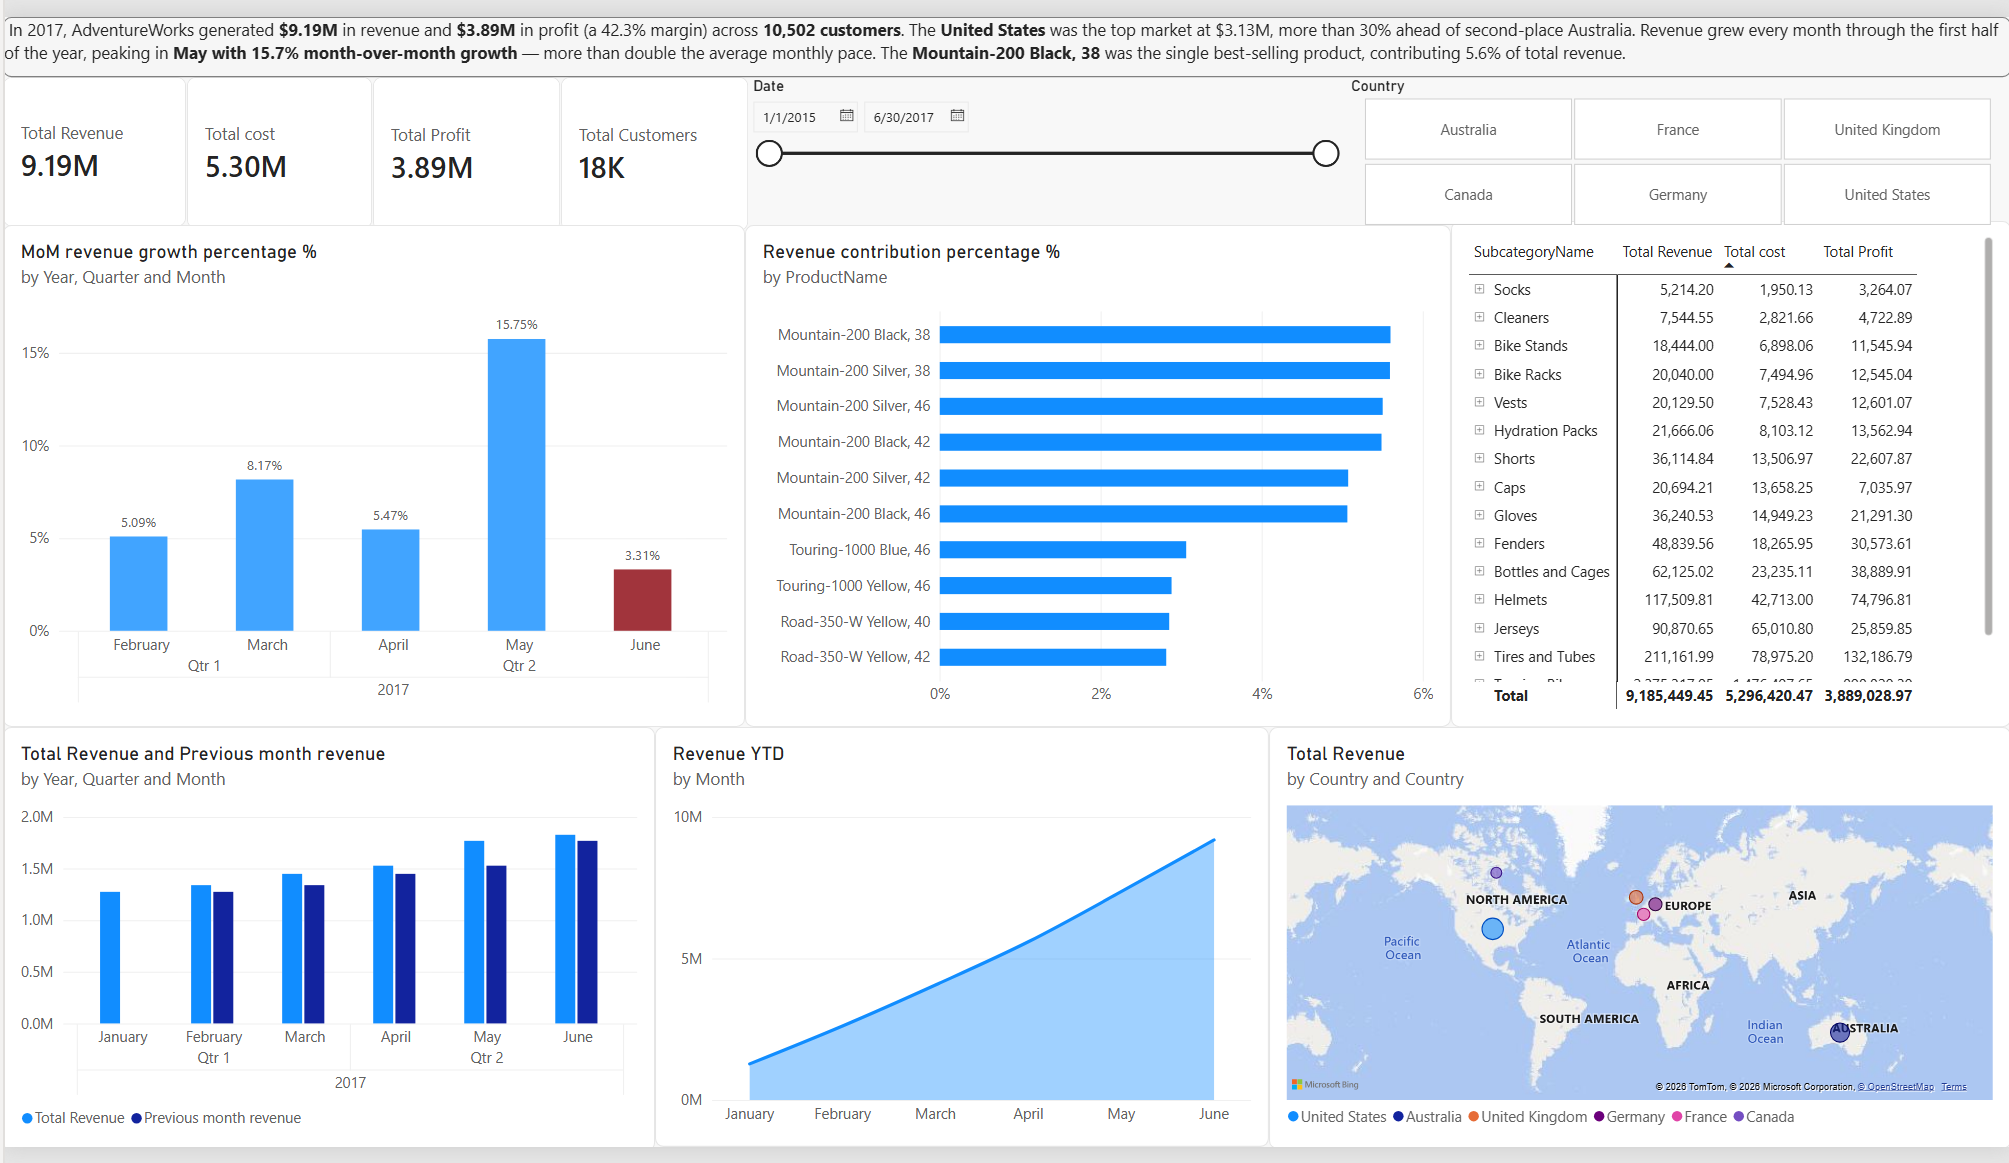

The dashboard page shown, as its layout file describes it:
{"tool":"powerbi","page":{"name":"AdventureWorks 2017 Sales Performance Dashboard","canvas":[1920,1080],"ordinal":0},"visuals":[{"type":"cardVisual","fields":{"Data":["AdventureWorks_Sales_2017.Total Revenue"]},"box":[0,57.4,175.9,143.4],"z":0},{"type":"cardVisual","fields":{"Data":["AdventureWorks_Sales_2017.Total cost"]},"box":[175.9,57.4,177.8,145.3],"z":1000},{"type":"cardVisual","fields":{"Data":["AdventureWorks_Sales_2017.Total Profit"]},"box":[353.8,57.4,179.8,147.3],"z":2000},{"type":"cardVisual","fields":{"Data":["AdventureWorks_Sales_2017.Total Customers"]},"box":[533.5,57.4,179.8,147.3],"z":3000},{"type":"areaChart","fields":{"Category":["AdventureWorks_Calendar.Date.Variation.Date Hierarchy.Month"],"Y":["AdventureWorks_Sales_2017.Revenue YTD"]},"box":[623.4,678.9,587.1,401.6],"z":4000},{"type":"clusteredColumnChart","fields":{"Category":["AdventureWorks_Calendar.Date.Variation.Date Hierarchy.Year","AdventureWorks_Calendar.Date.Variation.Date Hierarchy.Quarter","AdventureWorks_Calendar.Date.Variation.Date Hierarchy.Month","AdventureWorks_Calendar.Date.Variation.Date Hierarchy.Day"],"Y":["AdventureWorks_Sales_2017.Total Revenue","AdventureWorks_Sales_2017.Previous month revenue"]},"box":[0,678.9,623.4,405.4],"z":5000},{"type":"clusteredColumnChart","fields":{"Category":["AdventureWorks_Calendar.Date.Variation.Date Hierarchy.Year","AdventureWorks_Calendar.Date.Variation.Date Hierarchy.Quarter","AdventureWorks_Calendar.Date.Variation.Date Hierarchy.Month","AdventureWorks_Calendar.Date.Variation.Date Hierarchy.Day"],"Y":["AdventureWorks_Sales_2017.MoM revenue growth percentage %"]},"box":[0,198.9,709.5,480],"z":6000},{"type":"clusteredBarChart","fields":{"Category":["AdventureWorks_Products.ProductName"],"Y":["AdventureWorks_Sales_2017.Revenue contribution percentage %"]},"box":[709.5,198.9,675.1,480],"z":7000},{"type":"pivotTable","fields":{"Rows":["AdventureWorks_Product_Subcateg.SubcategoryName","AdventureWorks_Products.ProductName"],"Values":["AdventureWorks_Sales_2017.Total Revenue","AdventureWorks_Sales_2017.Total cost","AdventureWorks_Sales_2017.Total Profit"]},"box":[1384.5,195.1,535.5,483.8],"z":8000},{"type":"map","fields":{"Category":["AdventureWorks_Territories.Country"],"Series":["AdventureWorks_Territories.Country"],"Size":["AdventureWorks_Sales_2017.Total Revenue"]},"box":[1210.5,678.9,709.5,403.5],"z":9000},{"type":"slicer","fields":{"Values":["AdventureWorks_Calendar.Date"]},"box":[709.5,57.4,571.8,145.3],"z":10000},{"type":"slicer","fields":{"Values":["AdventureWorks_Territories.Country"]},"box":[1281.3,57.4,638.7,143.4],"z":11000},{"type":"textbox","box":[0,0,1920,57.4],"z":12000}]}

Visuals, with their boxes in screenshot pixels (x1, y1, x2, y2), scaled from the page's 1920x1080 canvas onto the 2009x1163 screenshot:
cardVisual - AdventureWorks_Sales_2017.Total Revenue: pyautogui.locateOnScreen(0, 62, 184, 216)
cardVisual - AdventureWorks_Sales_2017.Total cost: pyautogui.locateOnScreen(184, 62, 370, 218)
cardVisual - AdventureWorks_Sales_2017.Total Profit: pyautogui.locateOnScreen(370, 62, 558, 220)
cardVisual - AdventureWorks_Sales_2017.Total Customers: pyautogui.locateOnScreen(558, 62, 746, 220)
areaChart - AdventureWorks_Calendar.Date.Variation.Date Hierarchy.Month x AdventureWorks_Sales_2017.Revenue YTD: pyautogui.locateOnScreen(652, 731, 1267, 1162)
clusteredColumnChart - AdventureWorks_Calendar.Date.Variation.Date Hierarchy.Year x AdventureWorks_Calendar.Date.Variation.Date Hierarchy.Quarter: pyautogui.locateOnScreen(0, 731, 652, 1162)
clusteredColumnChart - AdventureWorks_Calendar.Date.Variation.Date Hierarchy.Year x AdventureWorks_Calendar.Date.Variation.Date Hierarchy.Quarter: pyautogui.locateOnScreen(0, 214, 742, 731)
clusteredBarChart - AdventureWorks_Products.ProductName x AdventureWorks_Sales_2017.Revenue contribution percentage %: pyautogui.locateOnScreen(742, 214, 1449, 731)
pivotTable - AdventureWorks_Product_Subcateg.SubcategoryName x AdventureWorks_Products.ProductName: pyautogui.locateOnScreen(1449, 210, 2008, 731)
map - AdventureWorks_Territories.Country x AdventureWorks_Territories.Country: pyautogui.locateOnScreen(1267, 731, 2008, 1162)
slicer - AdventureWorks_Calendar.Date: pyautogui.locateOnScreen(742, 62, 1341, 218)
slicer - AdventureWorks_Territories.Country: pyautogui.locateOnScreen(1341, 62, 2008, 216)
textbox: pyautogui.locateOnScreen(0, 0, 2008, 62)
